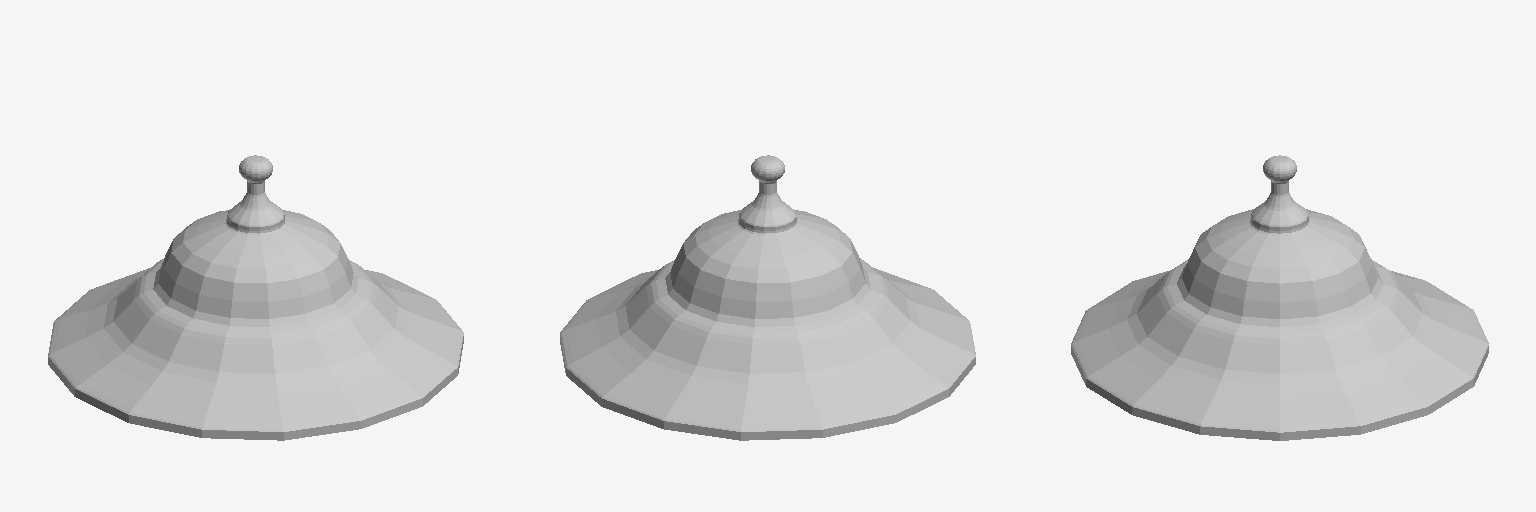
File: tampa.obj
3 renders of one model, left to right at view 1: azimuth 30°, elevation 25°; view 2: azimuth 150°, elevation 25°; view 3: azimuth 270°, elevation 25°, orthographic.
Visible parts, largest first — view 1: Cylinder; view 2: Cylinder; view 3: Cylinder.
Boxes of the visible parts, box(x1,y1,x2,y2) form: Cylinder: box(48, 155, 463, 440); Cylinder: box(560, 155, 975, 440); Cylinder: box(1071, 155, 1488, 440).
Size of the model in its own units: 2.42 by 1.24 by 2.42.